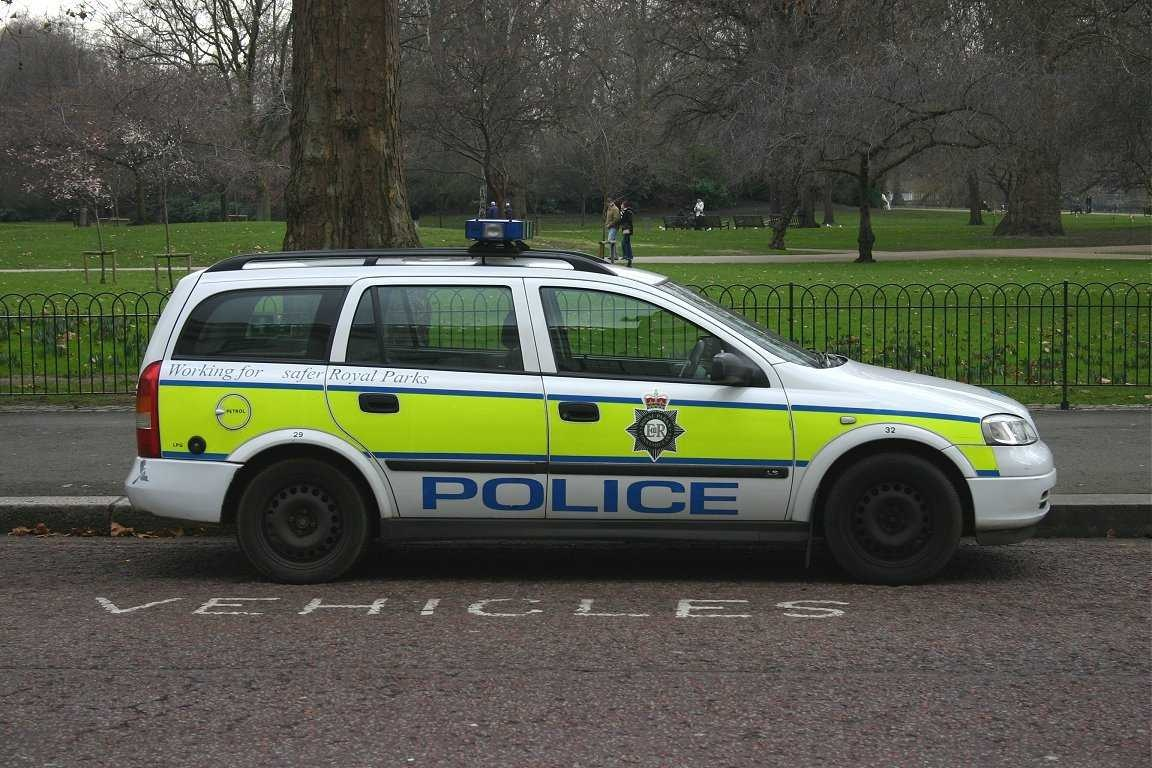Police Car: (110, 193, 1108, 653)
